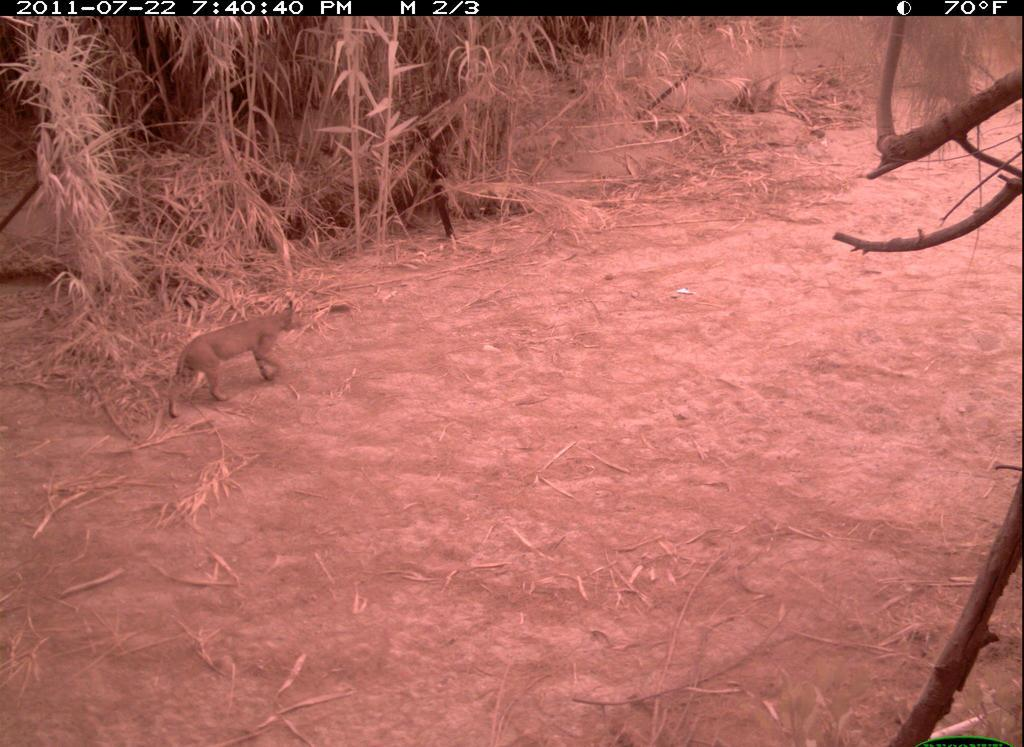bobcat: (159, 290, 317, 432)
